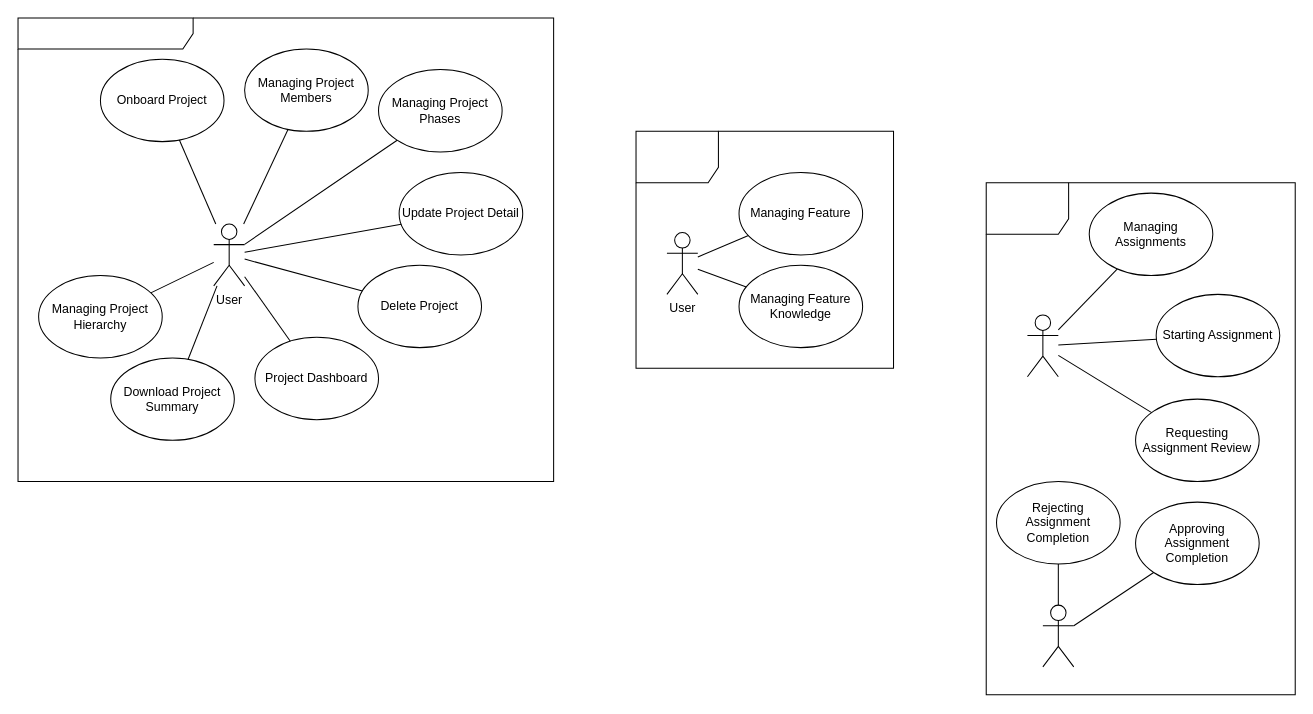
Some shapes in this 1313 by 714 pixel diagram are drawn without their labels. Here are the shapes that lost their labels. From the top down, the box of each, then its label:
(17, 17, 554, 482): Project Domain Use Cases
(635, 130, 894, 368): Feature Domain Use Case
(1026, 314, 1058, 377): Worker
(985, 182, 1295, 695): Assignments Domain Use Case
(1042, 604, 1074, 667): Reviewer
